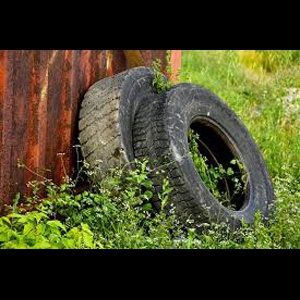tire: (133, 82, 276, 248), (77, 66, 181, 245)
